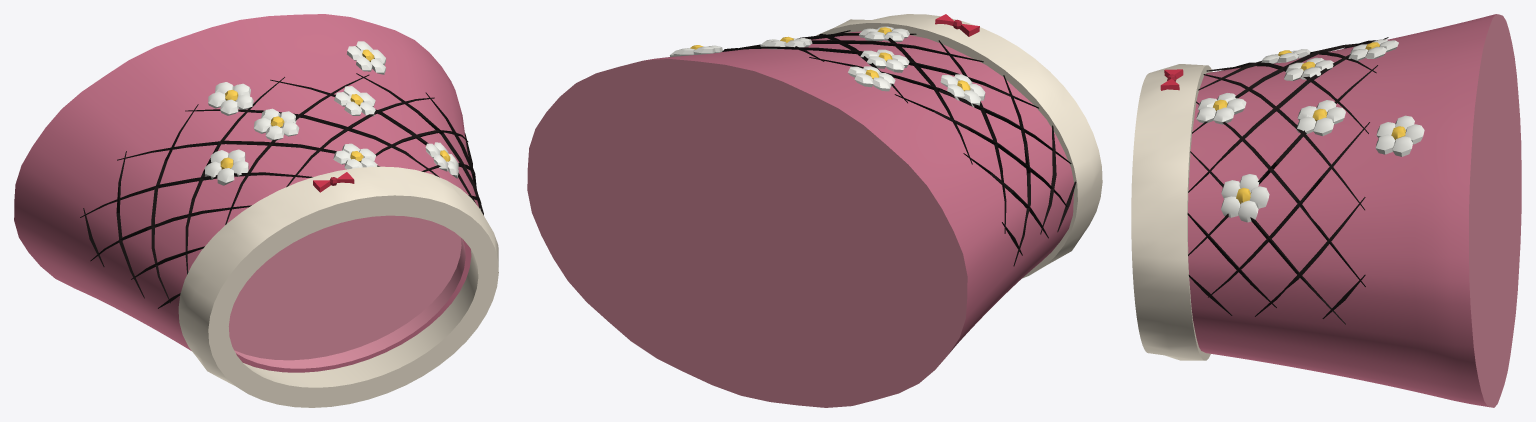
File: Sleeve_Robe.fbx
The picture shows the model from 3 angles, left to right: view 1: azimuth 30°, elevation 25°; view 2: azimuth 150°, elevation 25°; view 3: azimuth 270°, elevation 25°; orthographic projection. The views are drawn at different scales.
Parts seen in each view (by area): view 1: Sleeve_Robe; view 2: Sleeve_Robe; view 3: Sleeve_Robe.
Boxes of the visible parts, x1,y1,x2,y2 form: Sleeve_Robe: (14,14,498,407); Sleeve_Robe: (527,14,1102,407); Sleeve_Robe: (1131,14,1521,407).
Size of the model in its own units: 1.03 by 0.6735 by 0.7425.
Materials: 1 (1 with a texture image).
